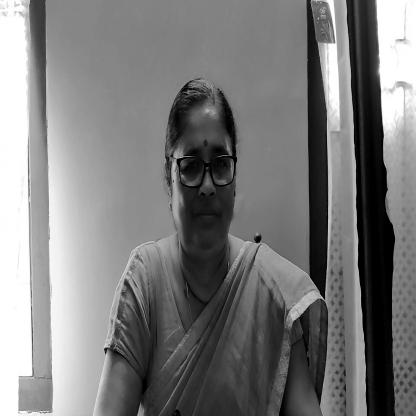Normal: (162, 85, 250, 267)
